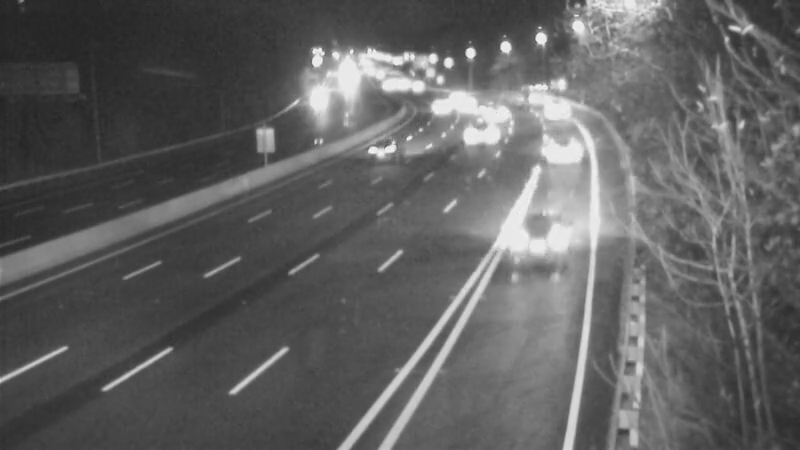vehicle: (520, 111, 600, 191), (342, 110, 422, 190), (501, 191, 581, 271), (507, 68, 557, 118), (432, 70, 482, 120), (442, 80, 492, 130), (413, 80, 463, 130), (525, 87, 575, 137), (470, 87, 520, 137), (454, 111, 504, 161), (294, 74, 344, 124)
